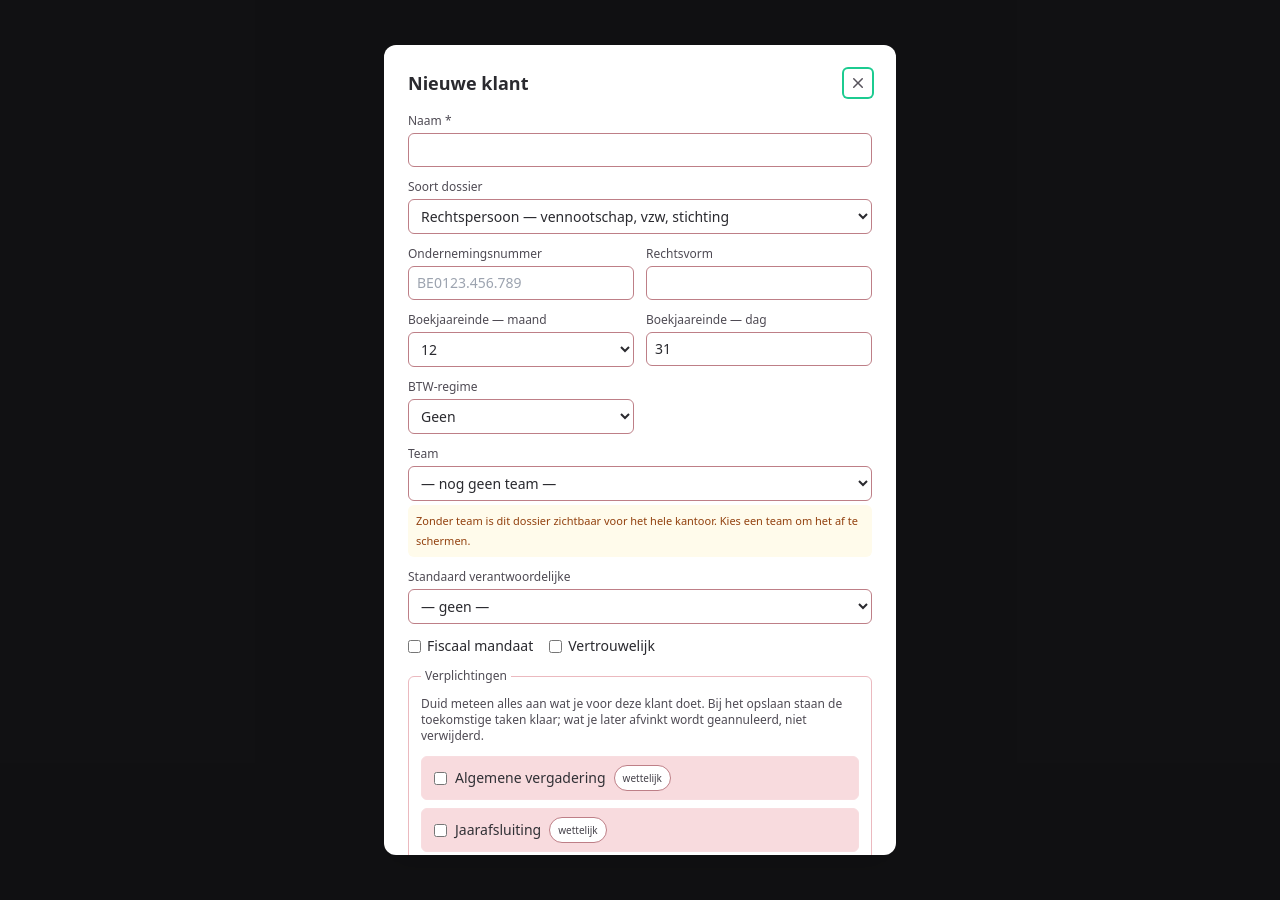
it: ClientFormModal — de statutaire AV-datum: tonen == opslaan › kiest geen vorm voor de gebruiker: aanvinken alleen bewaart geen statutaire datum
Later steps or results of the test are not shown.
In the field labelled "Naam *": (640,150) [408,133,872,167], type "Zomer BV"
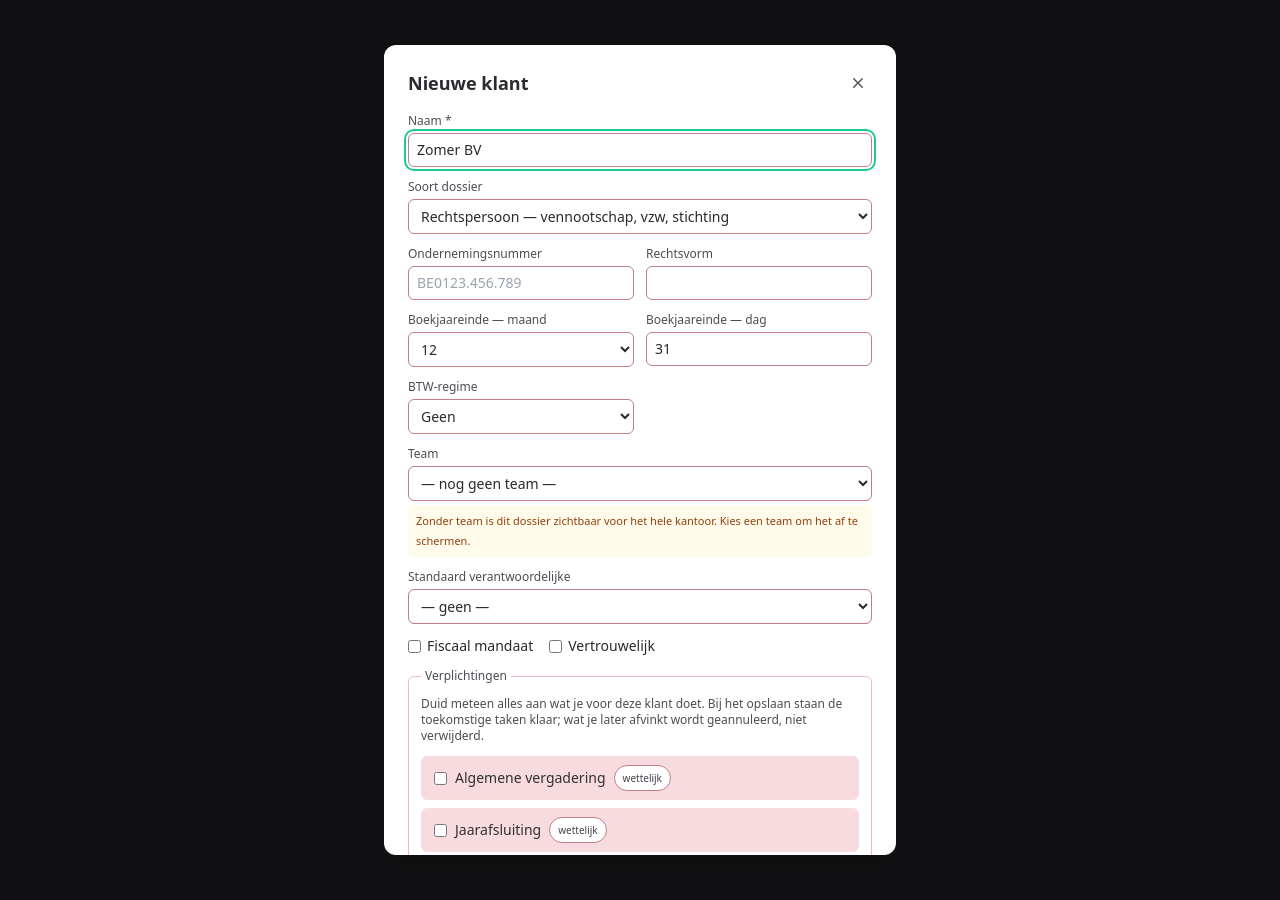
Click the checkbox labelled "Algemene vergadering wettelijk": (440,778) [434,772,447,784]
(page scrolled)
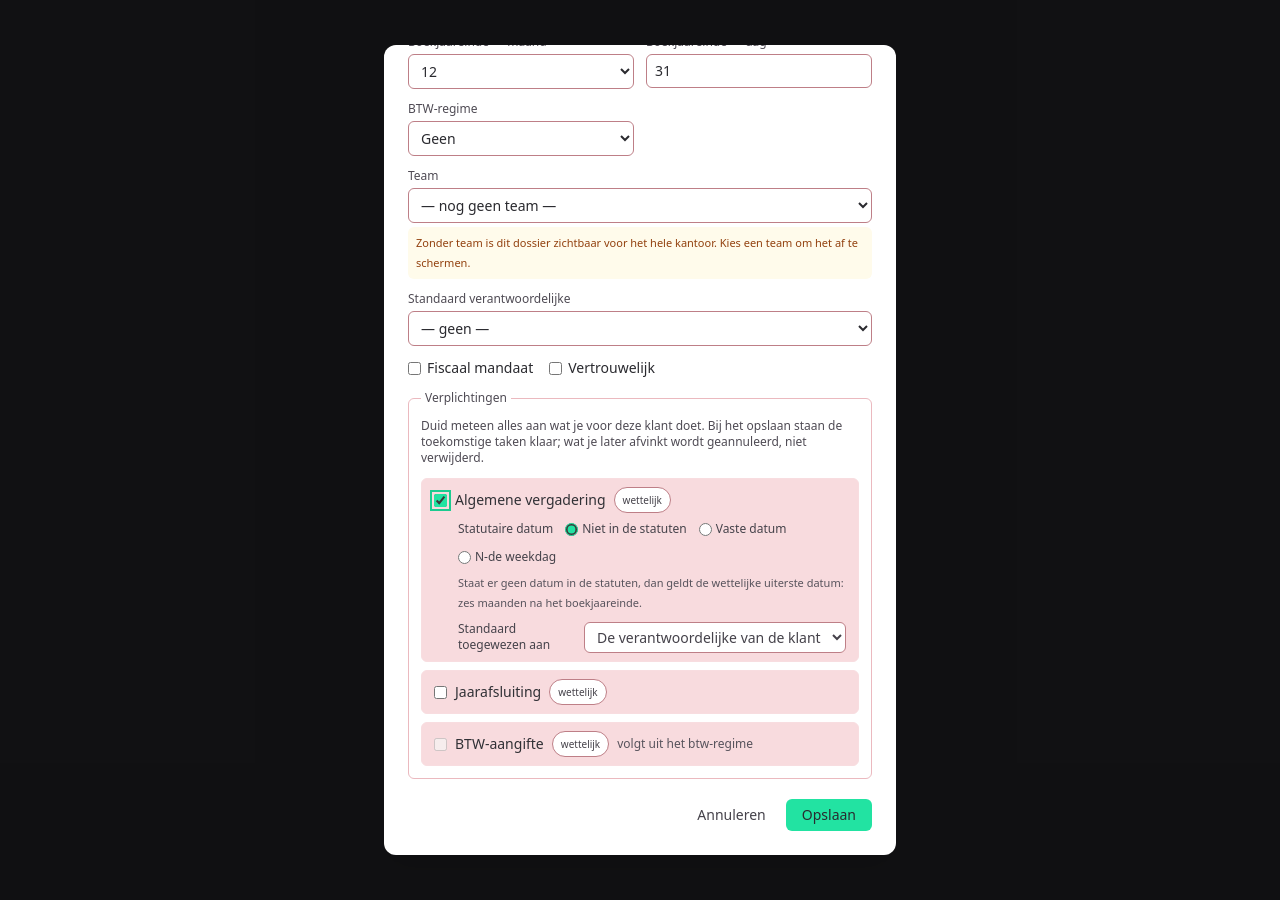
Expected: the radio button labelled "Vaste datum" is not checked, [699,522,712,536]
Expected: the radio button labelled "N-de weekdag" is not checked, [458,550,471,564]
Expected: the radio button labelled "Niet in de statuten" is checked, [565,522,578,536]
